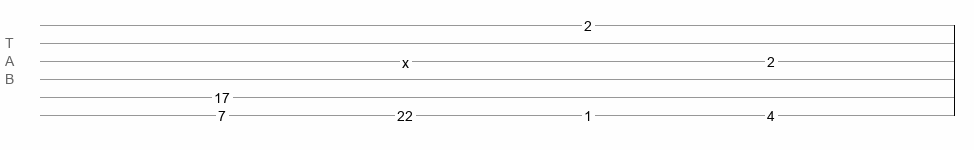1: (584, 108, 592, 118)
17: (214, 90, 230, 100)
2: (584, 18, 592, 28), (767, 54, 775, 64)
22: (397, 108, 413, 118)
4: (767, 108, 775, 118)
7: (218, 108, 226, 118)
x: (402, 55, 409, 63)
